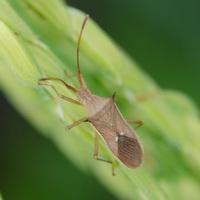insect: (38, 15, 142, 175)
